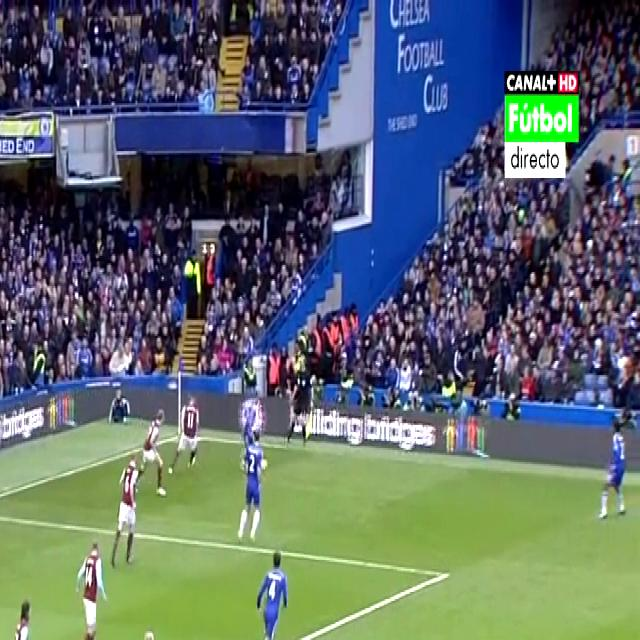ball: (256, 446, 280, 484)
referee: (286, 350, 318, 450), (133, 617, 168, 640)
soccer-player: (111, 454, 146, 577), (71, 535, 111, 640), (598, 411, 630, 531), (252, 542, 291, 640), (140, 401, 170, 510), (237, 421, 260, 549), (172, 377, 200, 472), (2, 581, 43, 640), (236, 387, 254, 468)
